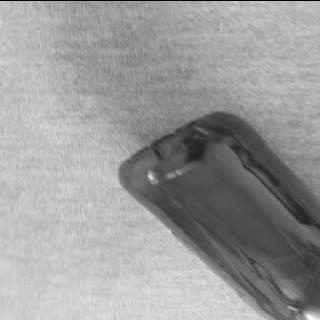plastic_bottles: (118, 99, 320, 320)
